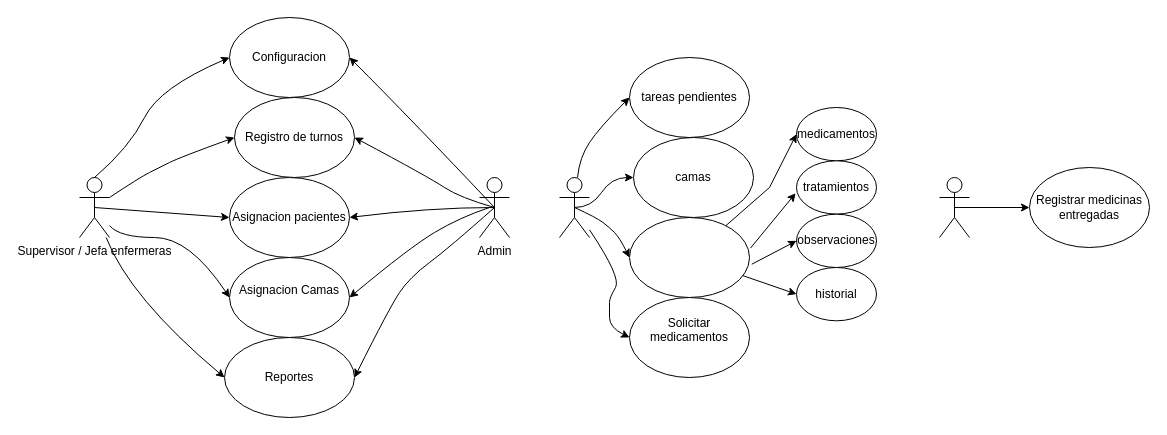
This 1167x435 diagram has some shape labels left out. The shapes that lost their labels are listed below. From the top down, each one's box as (x1, y1, x2, y2) in pixels, then its label:
(558, 176, 590, 238): Enfermera
(938, 176, 970, 238): Farmacia
(628, 216, 750, 298): Pacientes
